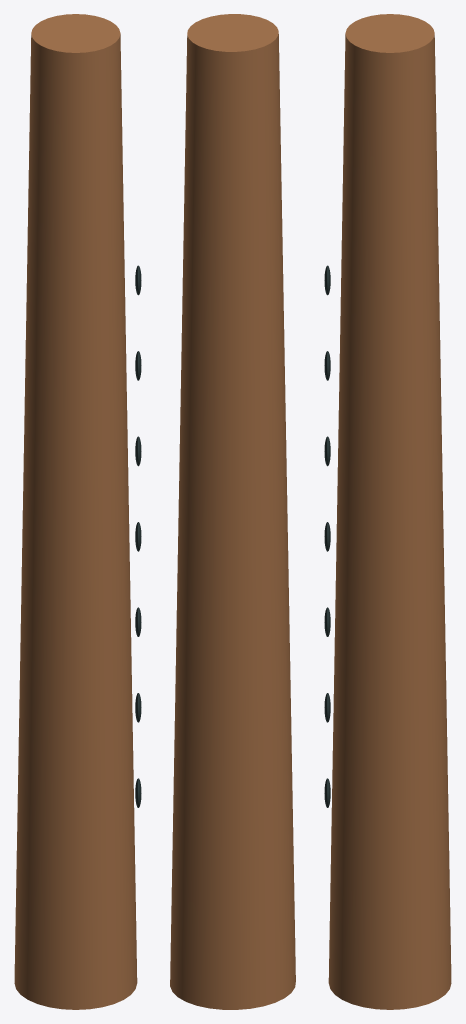
File: wp-flute-a-bec.glb
The picture shows the model from 3 angles, left to right: view 1: azimuth 90°, elevation 25°; view 2: azimuth 210°, elevation 25°; view 3: azimuth 270°, elevation 25°; orthographic projection.
Parts seen in each view (by area): view 1: wp-flute-a-bec; view 2: wp-flute-a-bec; view 3: wp-flute-a-bec.
Boxes of the visible parts, x1,y1,x2,y2 form: wp-flute-a-bec: (14, 14, 141, 1009); wp-flute-a-bec: (170, 14, 295, 1009); wp-flute-a-bec: (324, 14, 451, 1009).
Size of the model in its own units: 0.04 by 0.33 by 0.04.
